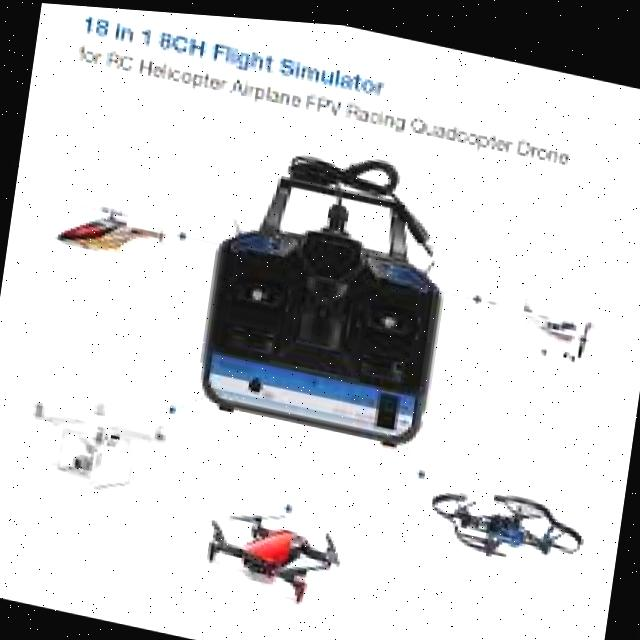drone: (2, 358, 186, 523), (185, 472, 362, 621), (413, 462, 607, 578), (444, 258, 616, 371)
